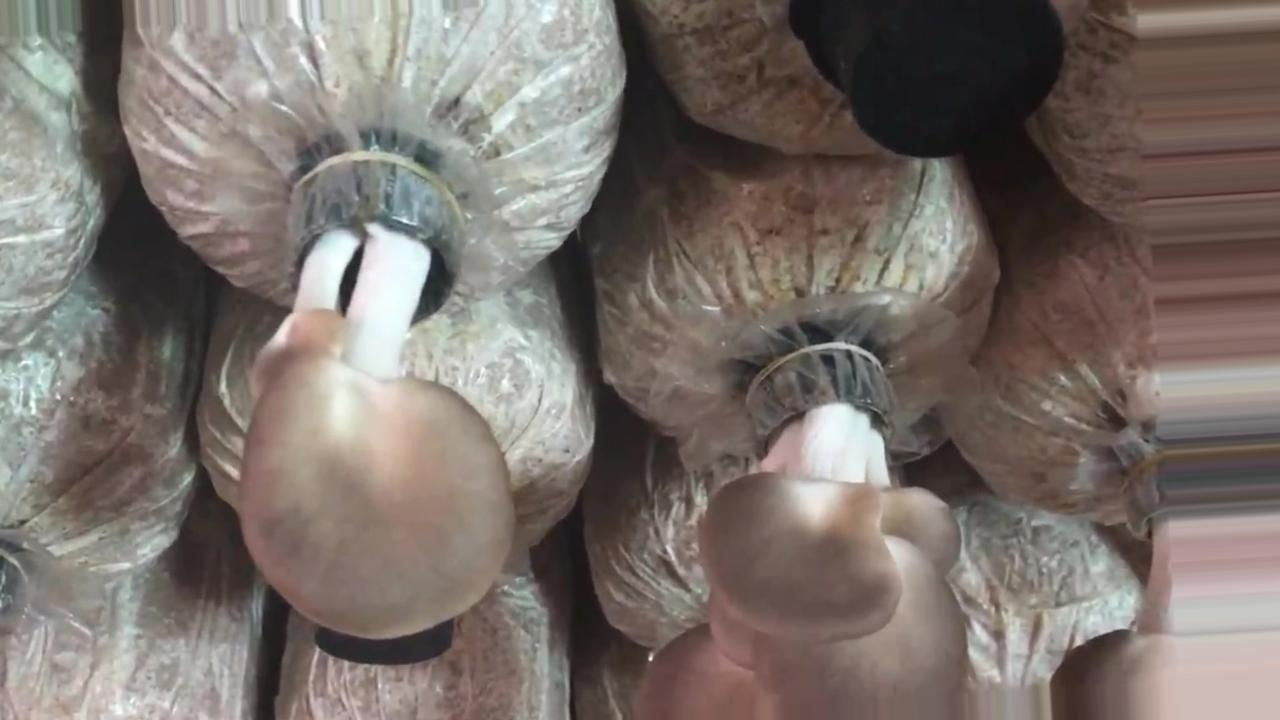nam: (240, 152, 512, 639), (637, 351, 967, 719), (1051, 460, 1279, 716)
